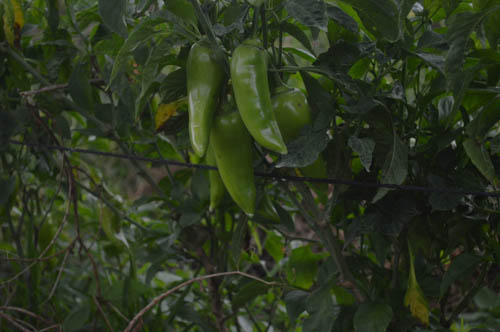ChiliPepper: (271, 89, 331, 190), (235, 47, 285, 157), (182, 44, 221, 159), (211, 112, 255, 213), (203, 146, 224, 211)
